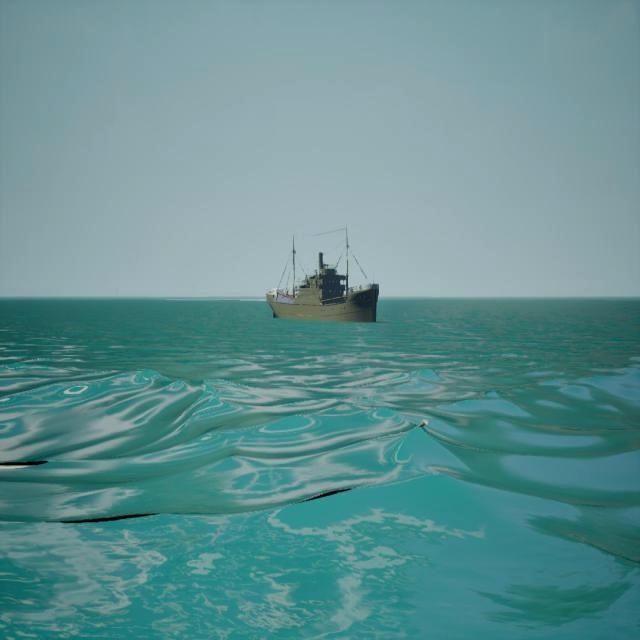no-oil: (57, 118, 640, 607)
